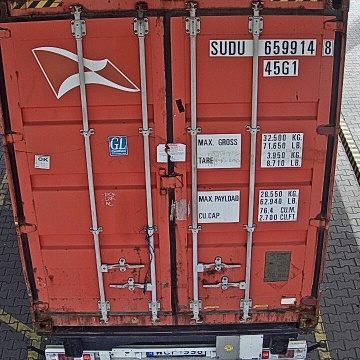serial_id: (210, 40, 333, 55)
